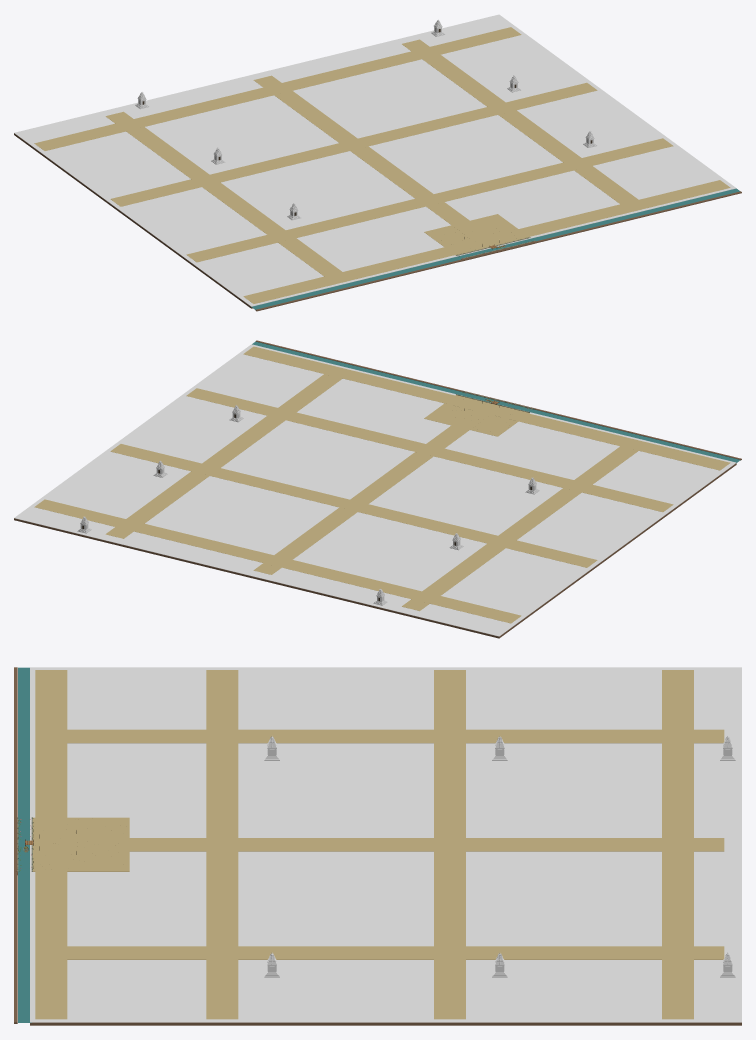
The model's file is lavo-wilds.glb.
3 views of the same model, one above another, from view 1: azimuth 30°, elevation 25°; view 2: azimuth 150°, elevation 25°; view 3: azimuth 270°, elevation 25° (orthographic). The views are drawn at different scales.
Visible parts, largest first — view 1: Expanded ground · meadow, Regional avenues · sand, River extension · water, Far bank extension · earth, Terrain · sand, Lavo brick prang · brick, Expanded ground · earth; view 2: Expanded ground · meadow, Regional avenues · sand, Expanded ground · earth, River extension · water, Terrain · sand, Far bank extension · earth, Lavo brick prang · brick; view 3: Expanded ground · meadow, Regional avenues · sand, River extension · water, Expanded ground · earth, Terrain · sand, Lavo brick prang · brick, Far bank extension · earth, River · water.
Boxes of the visible parts, box(x1,y1,x2,y2) form: Expanded ground · meadow: box(14, 14, 736, 306); Regional avenues · sand: box(34, 27, 730, 303); River extension · water: box(251, 188, 739, 309); Far bank extension · earth: box(255, 191, 741, 311); Terrain · sand: box(424, 214, 528, 255); Lavo brick prang · brick: box(135, 19, 597, 220); Expanded ground · earth: box(14, 133, 252, 308); Expanded ground · meadow: box(14, 344, 736, 636); Regional avenues · sand: box(34, 346, 730, 623); Expanded ground · earth: box(14, 463, 736, 638); River extension · water: box(252, 341, 740, 463); Terrain · sand: box(424, 395, 529, 436); Far bank extension · earth: box(255, 340, 741, 460); Lavo brick prang · brick: box(77, 405, 539, 605); Expanded ground · meadow: box(30, 667, 741, 1022); Regional avenues · sand: box(35, 670, 724, 1019); River extension · water: box(18, 667, 31, 1022); Expanded ground · earth: box(30, 1022, 741, 1025); Terrain · sand: box(33, 817, 129, 871); Lavo brick prang · brick: box(264, 736, 735, 977); Far bank extension · earth: box(14, 667, 17, 1023); River · water: box(18, 818, 29, 872).
Size of the model in its own units: 236 by 7.86 by 204.
